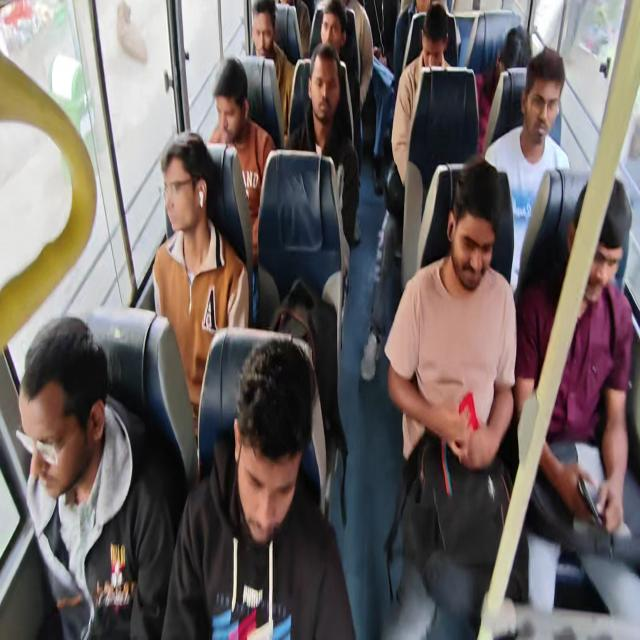person: (226, 331, 318, 550), (16, 314, 112, 499), (573, 171, 629, 318), (149, 128, 209, 254), (449, 168, 503, 290), (520, 50, 568, 170), (306, 44, 350, 130), (213, 58, 254, 150), (249, 0, 282, 58), (498, 21, 530, 74), (422, 3, 450, 58), (317, 0, 345, 54)
